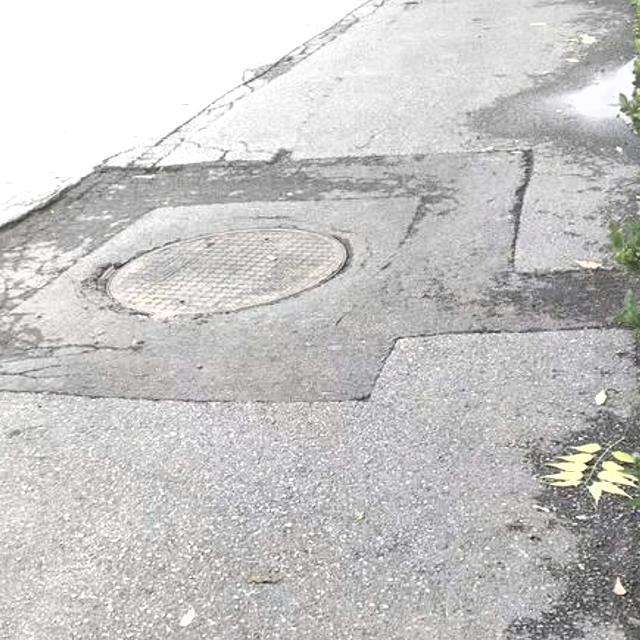circle: (0, 177, 512, 394)
